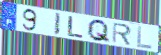9: (22, 9, 38, 32)
I: (53, 12, 62, 37)
L: (66, 15, 85, 39), (136, 25, 154, 50)
Q: (86, 19, 111, 44)
R: (112, 22, 133, 46)
